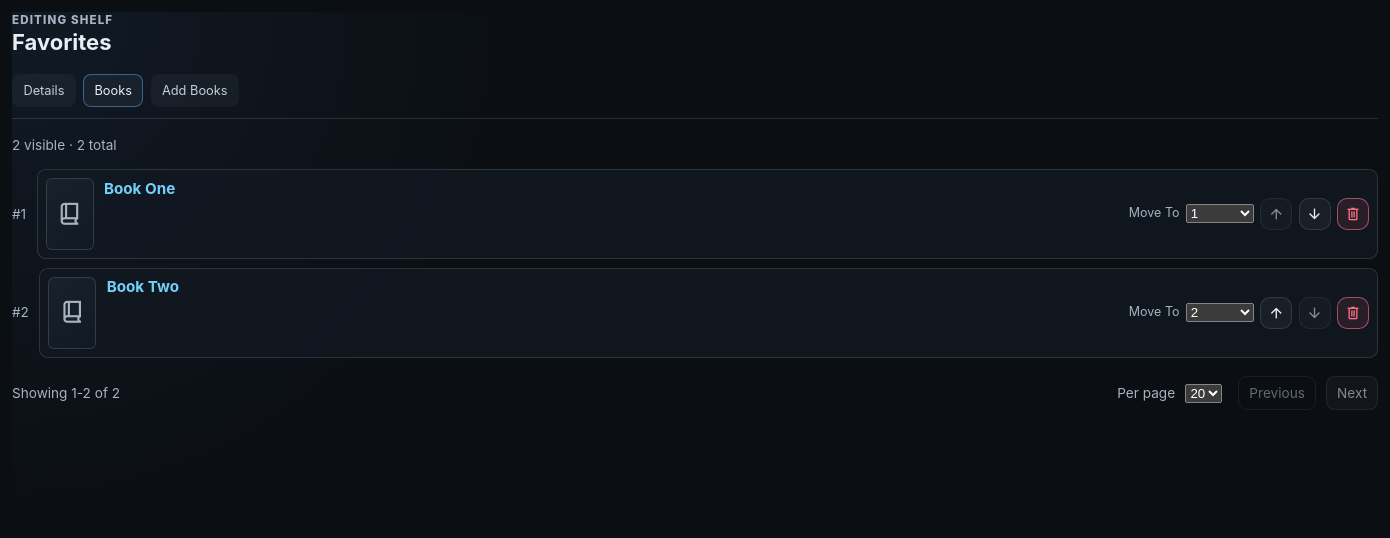
ShelfEditOrchestrator item mutations › reports move as committed when only the summary refresh fails
The image size is (1390, 538).
Click the button named "Move Book One down" at (1315, 214), box [1299,198,1331,230]
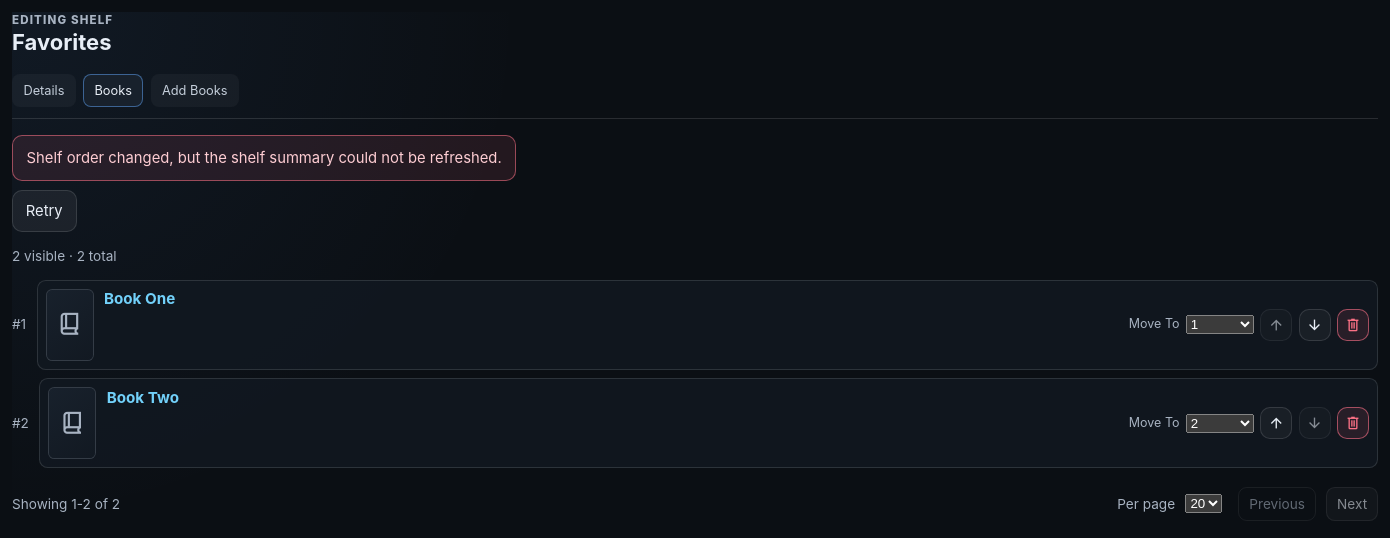
Expected: the button named "Move Book One down" is enabled, [1299,308,1331,340]
Expected: the message "Shelf order changed, but the shelf summary could not be refreshed." is shown, [12,135,516,181]
